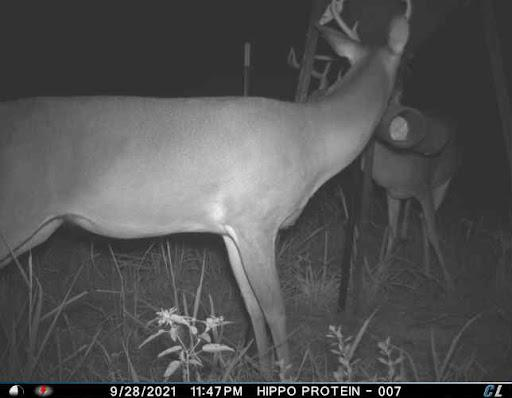Deer: (0, 0, 417, 377), (269, 41, 474, 301)
